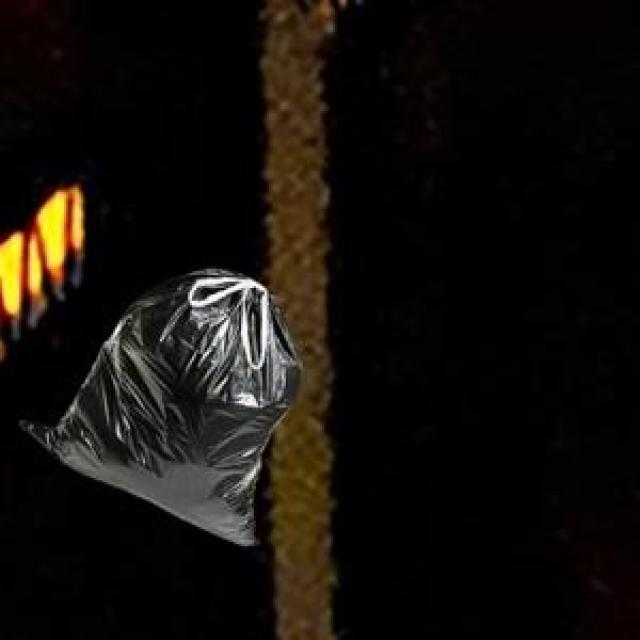miscellaneous trash: (15, 265, 297, 542)
